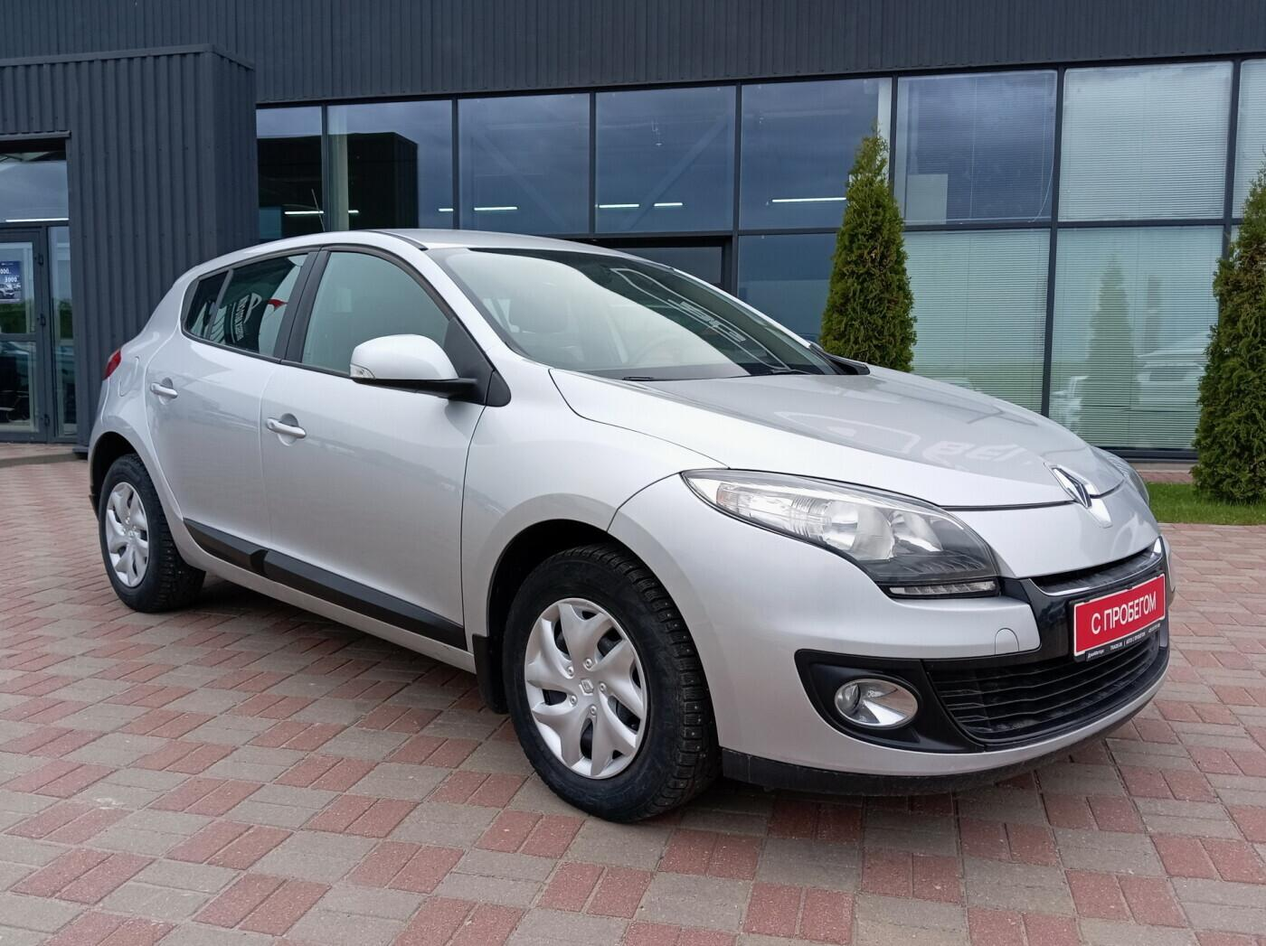Megane_2012-2014: (87, 226, 1174, 813)
